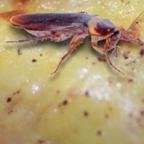cockroach: (7, 11, 122, 56)
